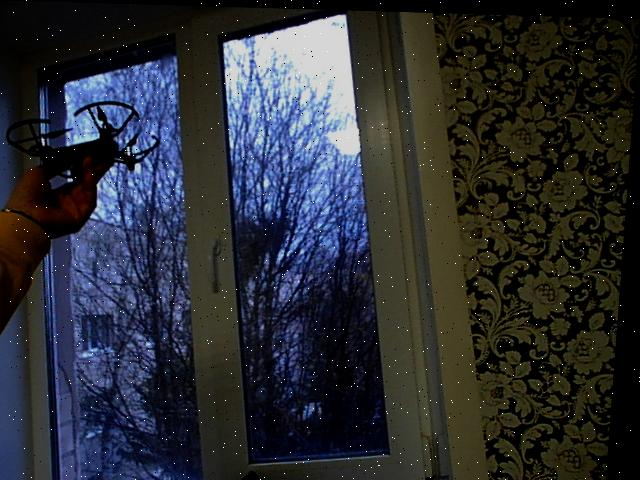drone: (2, 91, 170, 185)
